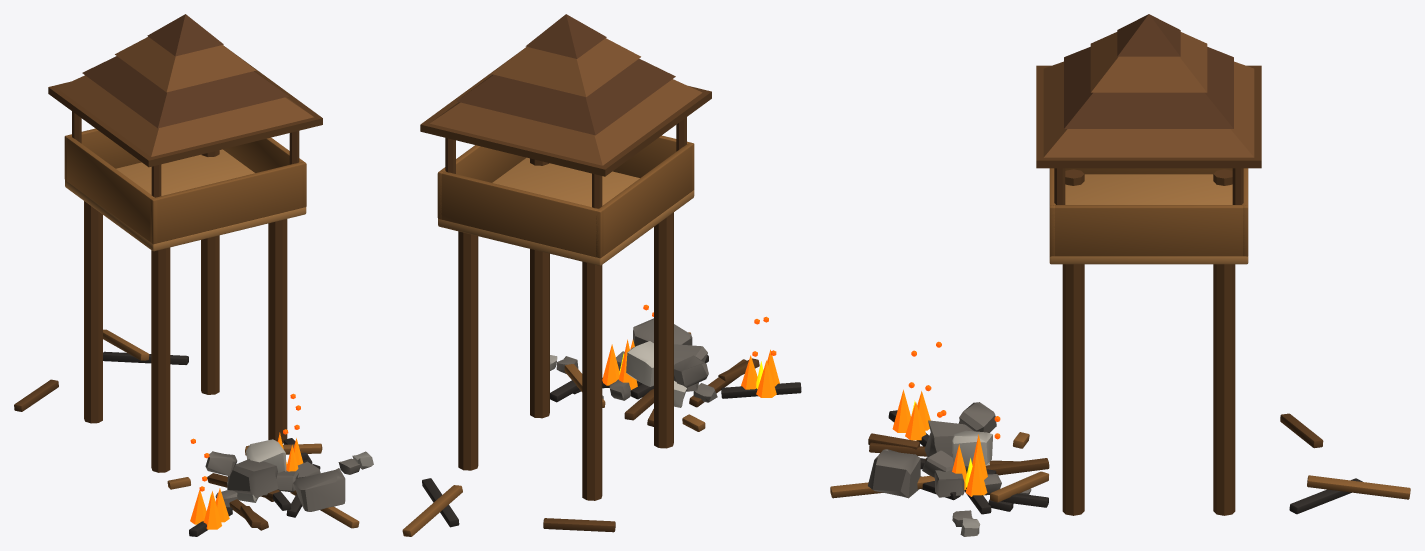
File: wieza_etap2.glb
The picture shows the model from 3 angles, left to right: view 1: azimuth 30°, elevation 25°; view 2: azimuth 150°, elevation 25°; view 3: azimuth 270°, elevation 25°; orthographic projection. The views are drawn at different scales.
Parts seen in each view (by area): view 1: wieza_etap2; view 2: wieza_etap2; view 3: wieza_etap2.
Boxes of the visible parts, x1,y1,x2,y2 form: wieza_etap2: (14, 14, 373, 536); wieza_etap2: (402, 14, 801, 536); wieza_etap2: (830, 14, 1410, 536).
Size of the model in its own units: 4.04 by 7.59 by 8.46.
